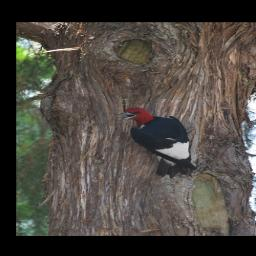Woodpecker: (114, 104, 204, 178)
